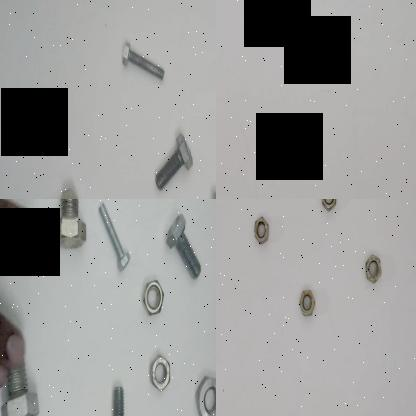Bolts: (151, 127, 194, 199), (45, 199, 93, 260), (94, 199, 132, 276), (162, 212, 202, 284), (0, 349, 40, 416), (115, 41, 166, 88), (27, 180, 84, 199), (103, 379, 131, 416)
NUTS: (190, 361, 216, 416), (137, 275, 167, 320), (148, 348, 174, 398), (362, 250, 384, 288), (298, 286, 318, 322), (251, 214, 269, 247), (256, 0, 273, 33), (317, 199, 335, 213)
